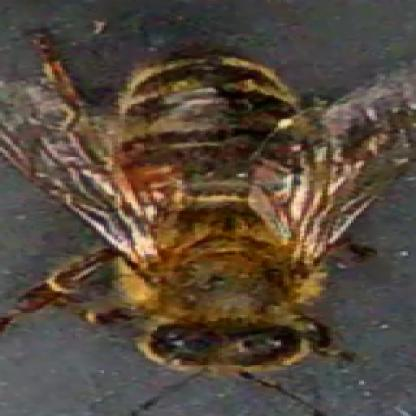bee: (67, 51, 350, 368)
